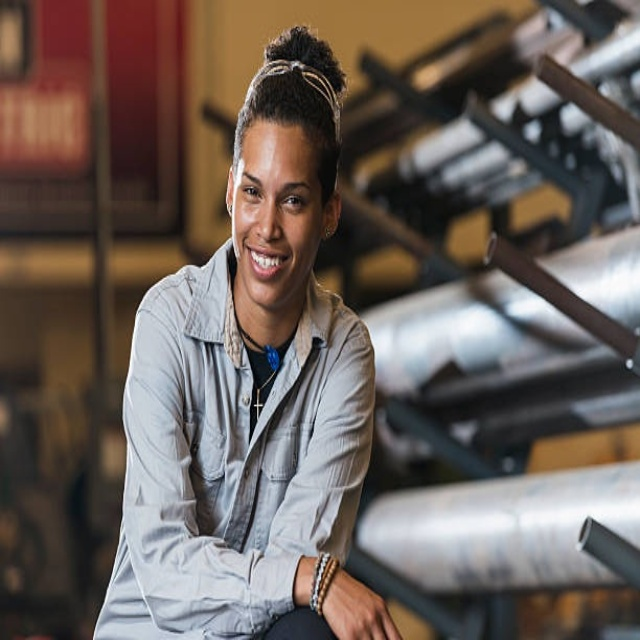Sin_gafas: (237, 157, 315, 216)
Sin_guantes: (312, 546, 405, 635)
Sin_mascara: (242, 237, 296, 290)
